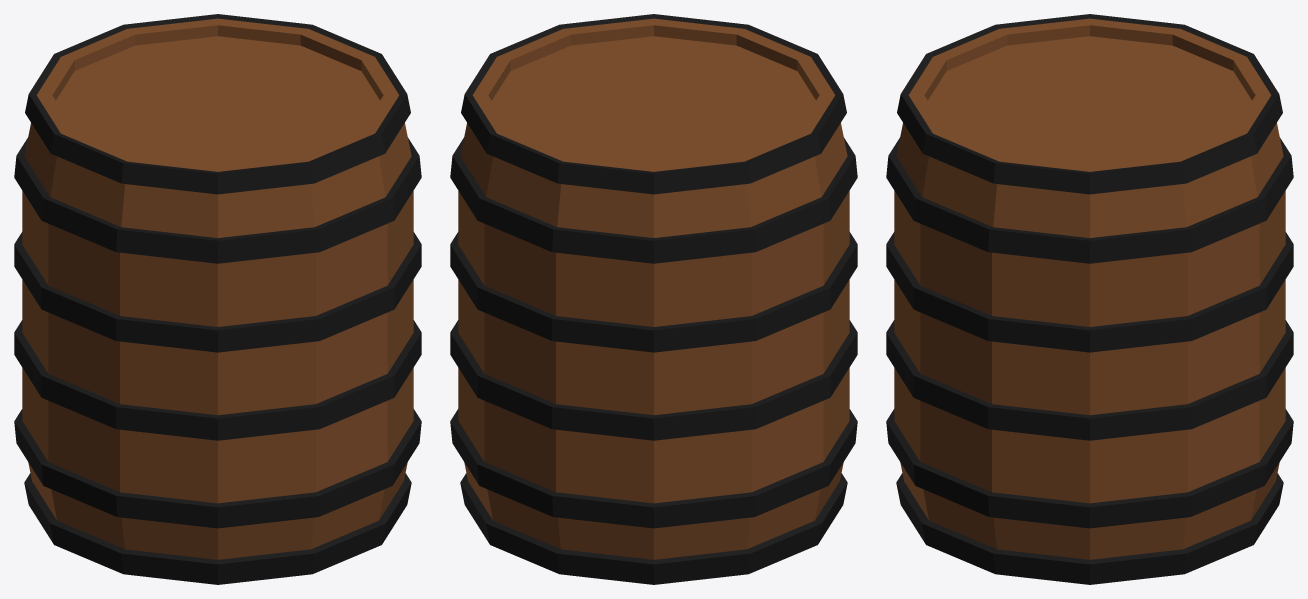
Rendered from ww_barrel_b.glb.
3 renders of one model, left to right at view 1: azimuth 30°, elevation 25°; view 2: azimuth 150°, elevation 25°; view 3: azimuth 270°, elevation 25°, orthographic.
Visible parts, largest first — view 1: Barrel_B; view 2: Barrel_B; view 3: Barrel_B.
Part boxes in pixels (<box>): Barrel_B: <box>14,14,421,584</box>; Barrel_B: <box>450,14,857,584</box>; Barrel_B: <box>886,14,1293,584</box>.
Bounding box in the file's own units: 0.8988 × 1 × 0.8988.
